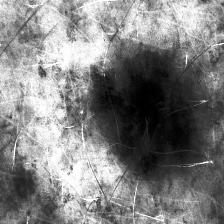Benign Marking or Mole: (89, 44, 209, 173)
